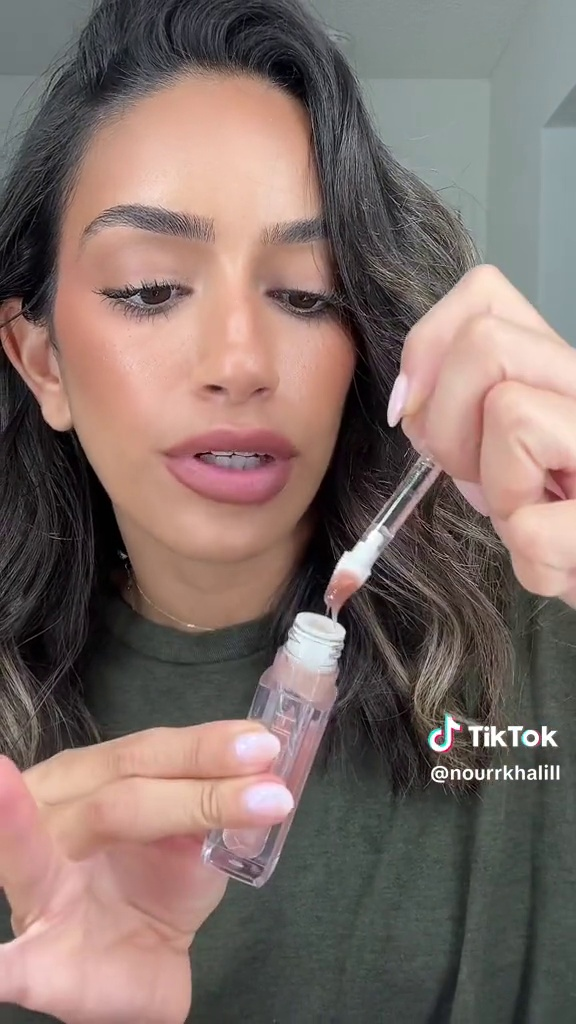train' :'yolo_data/train/images',: (193, 613, 357, 898), (318, 362, 480, 609)
